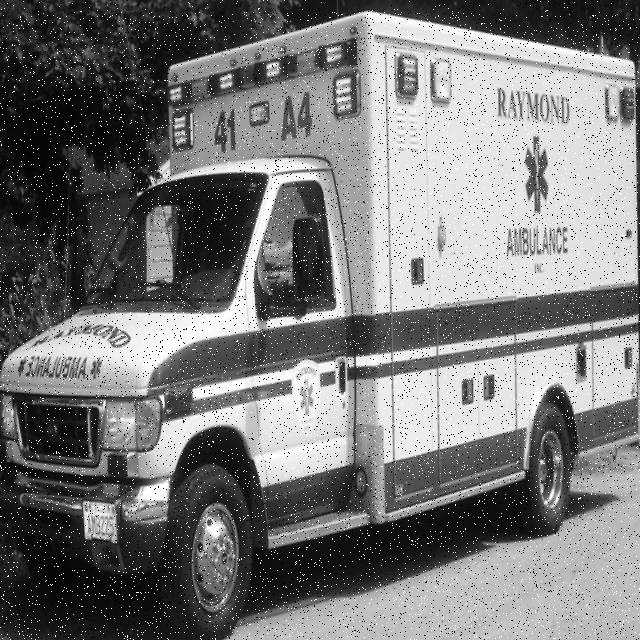Ambulance: (0, 12, 640, 640)
